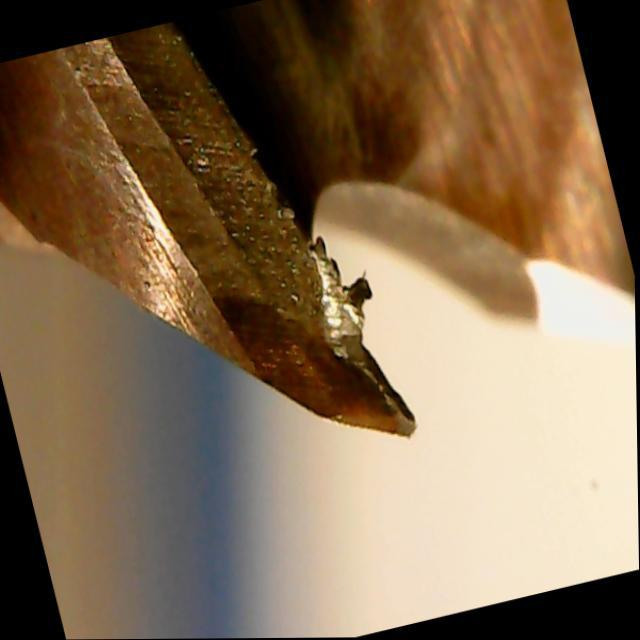Tool-wear-class-2: (186, 203, 429, 482)
